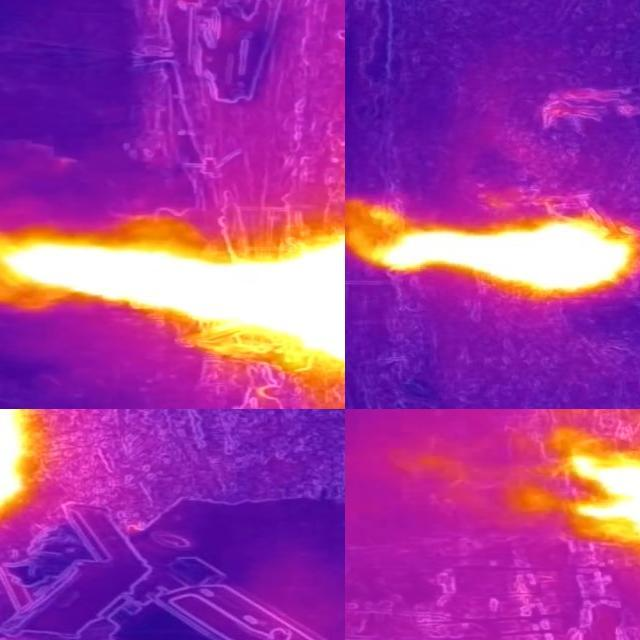fire: (1, 230, 346, 372), (354, 217, 640, 296), (569, 443, 640, 573), (1, 409, 48, 519)
